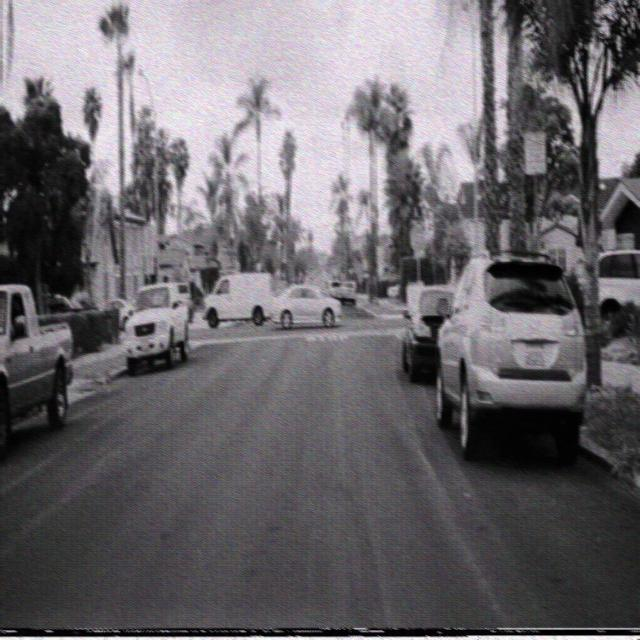stop_sign: (408, 222, 426, 254)
